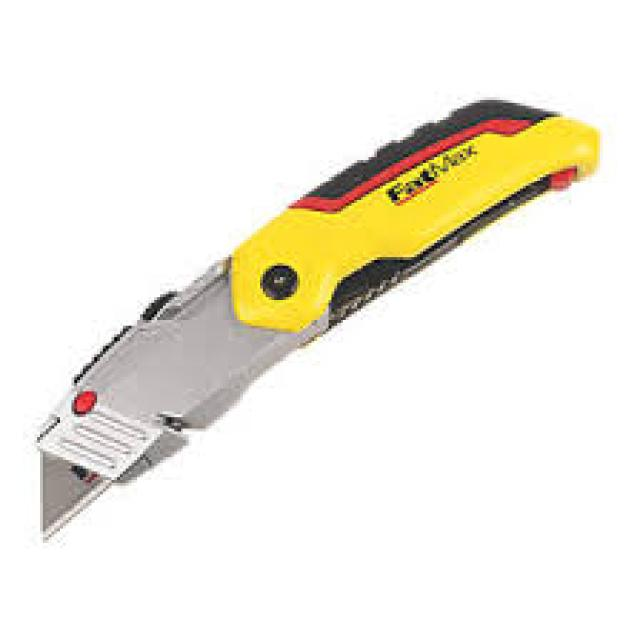knives: (26, 91, 606, 546)
